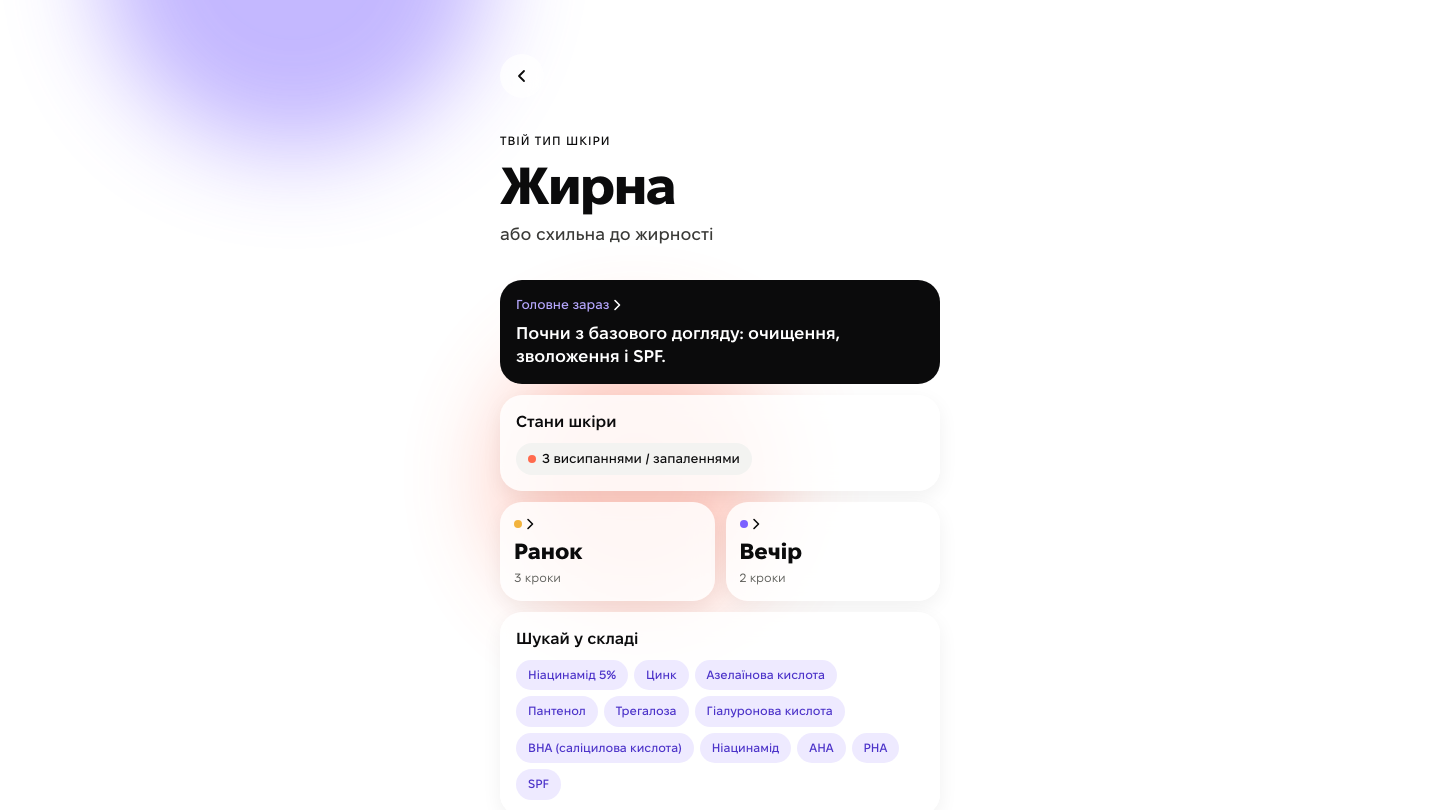
Test case: ResultPage › T1: a standard result without a banner; missing texts say "being prepared"
Expected: the heading "Твій тип шкіри" is shown, [500,134,611,147]
Expected: the heading "Жирна або схильна до жирності" is shown, [500,157,714,243]
# the full texts (author's Figma texts) and the goals open in the details sheet
Click the button "Головне зараз".
click(720, 332)  # box [500,280,940,384]
(page scrolled)
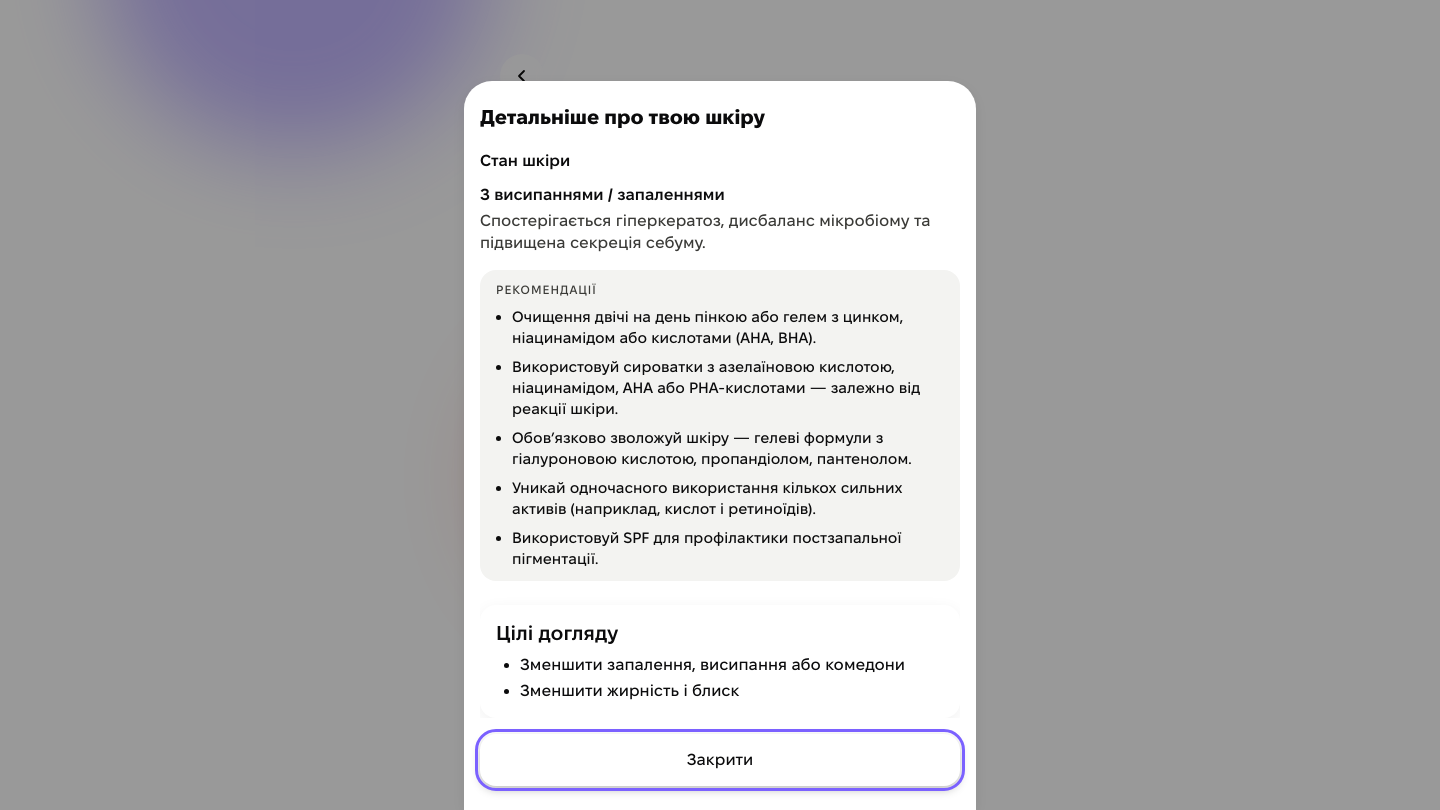
Expected: the list item "Зменшити запалення, висипання або комедони" is shown, [520,654,944,676]
